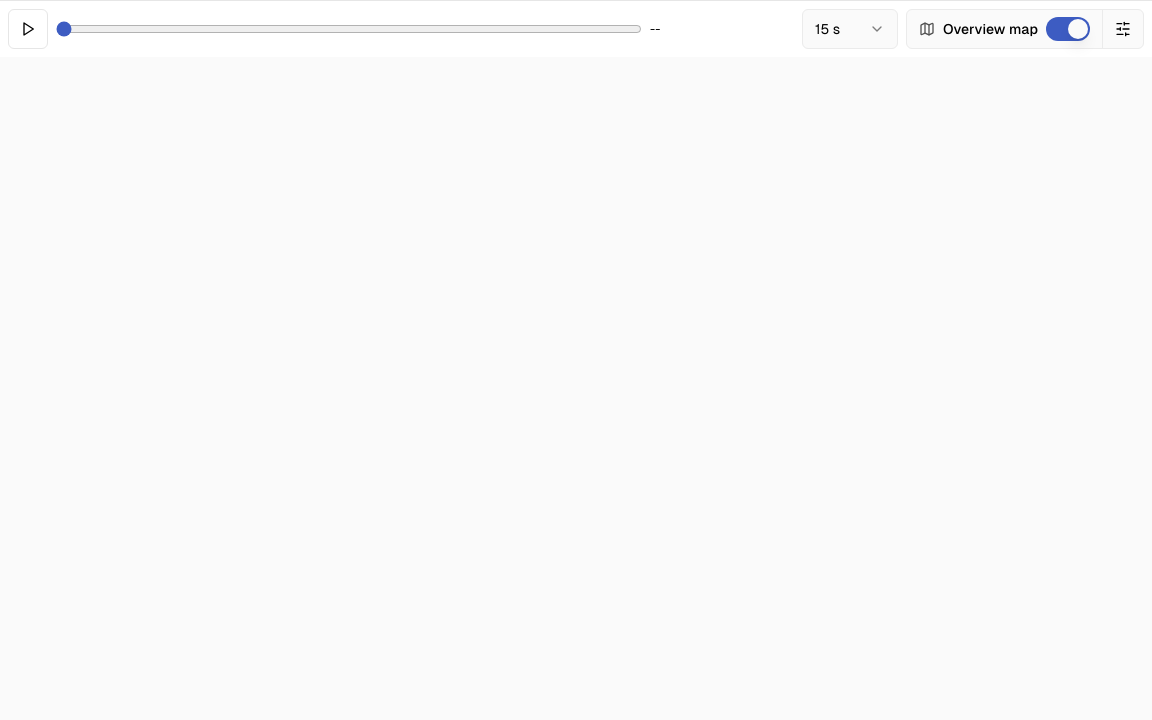
the overview map placement controls › stop at three steps either way
Click the button named "Place overview map": (1123, 29) [1103,9,1143,49]
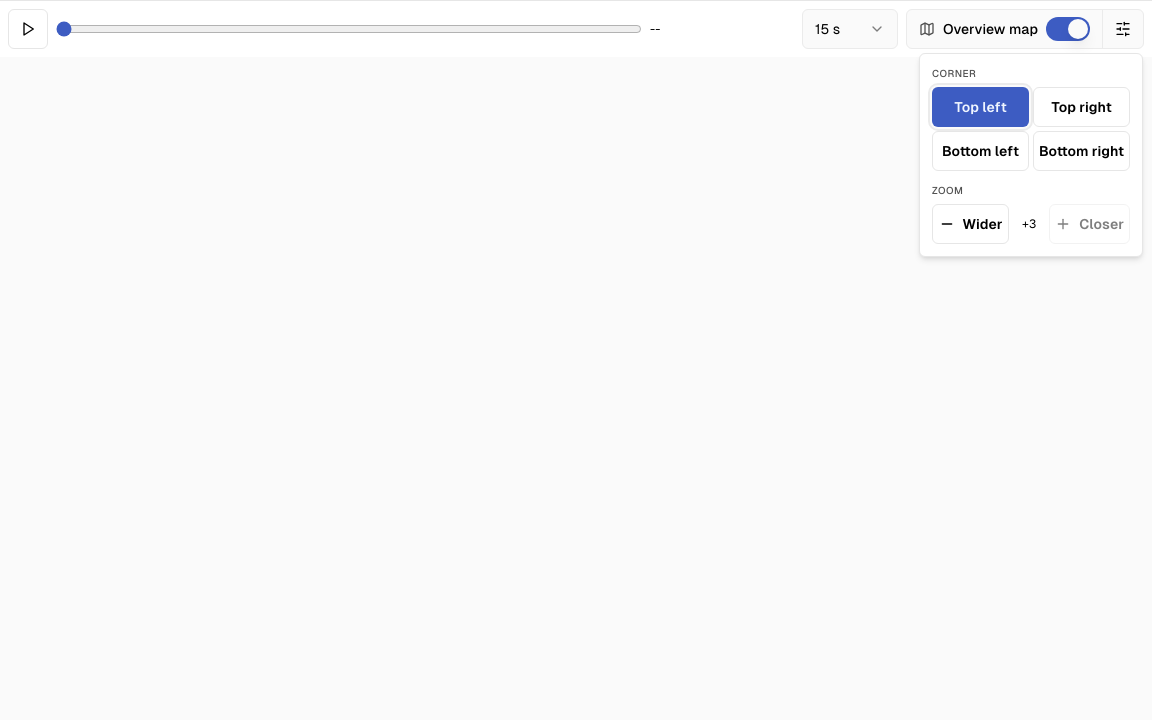
Check: the button "Closer" is disabled, box [1049,204,1130,244]
Check: the button "Wider" is enabled, box [932,204,1009,244]
